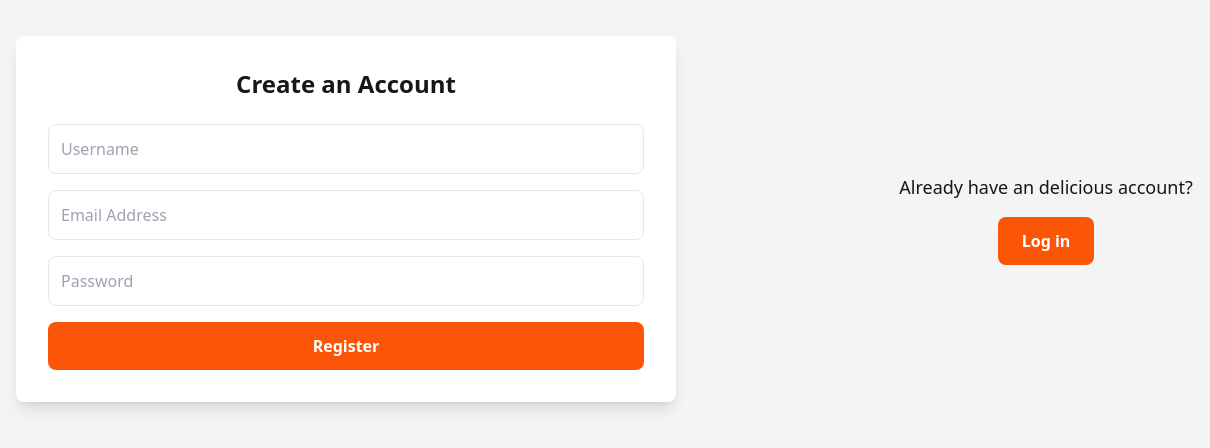
Test: SignUp Component › handles API error on registration
Type "spiderman" into the field with placeholder "Username" at (346,149), box [48, 124, 644, 174]
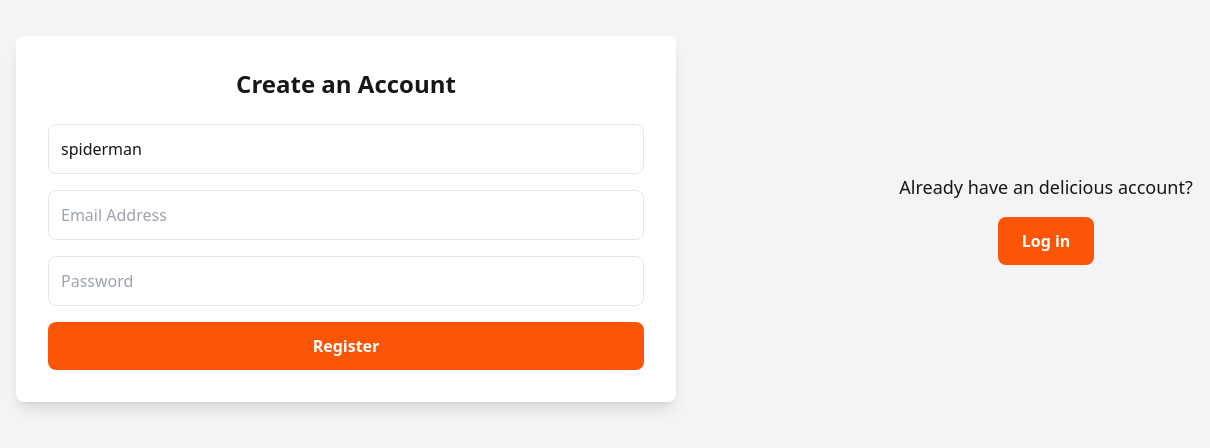
Type "spiderman@gmail.com" into the field with placeholder "Email Address" at (346,215), box [48, 190, 644, 240]
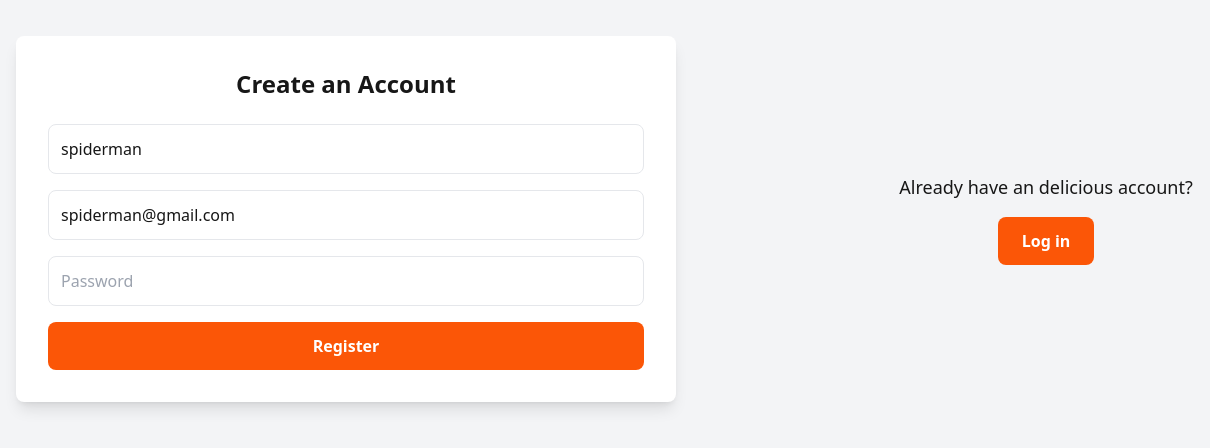
Type "dsasee@@sd" into the password field with placeholder "Password" at (346,281), box [48, 256, 644, 306]
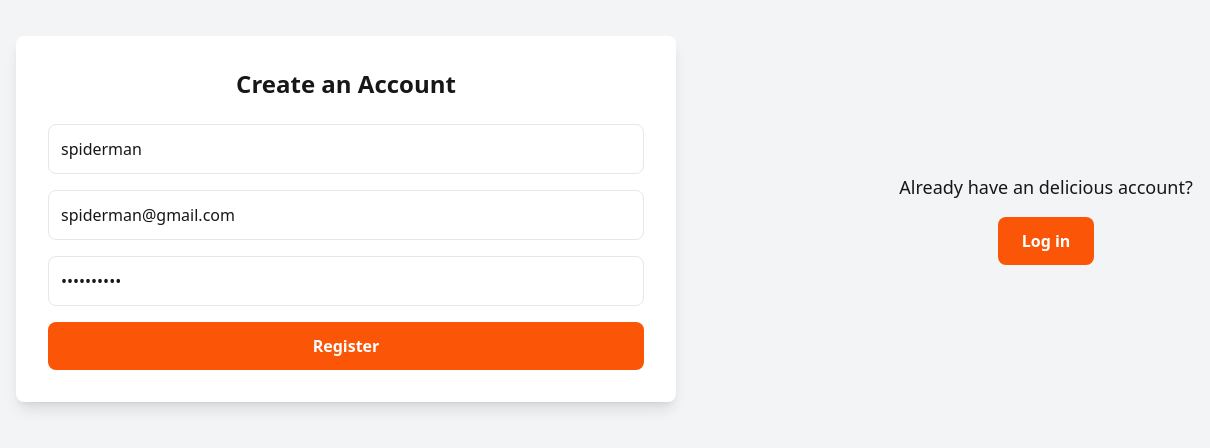
Click the button "Register" at (346,346), box [48, 322, 644, 370]
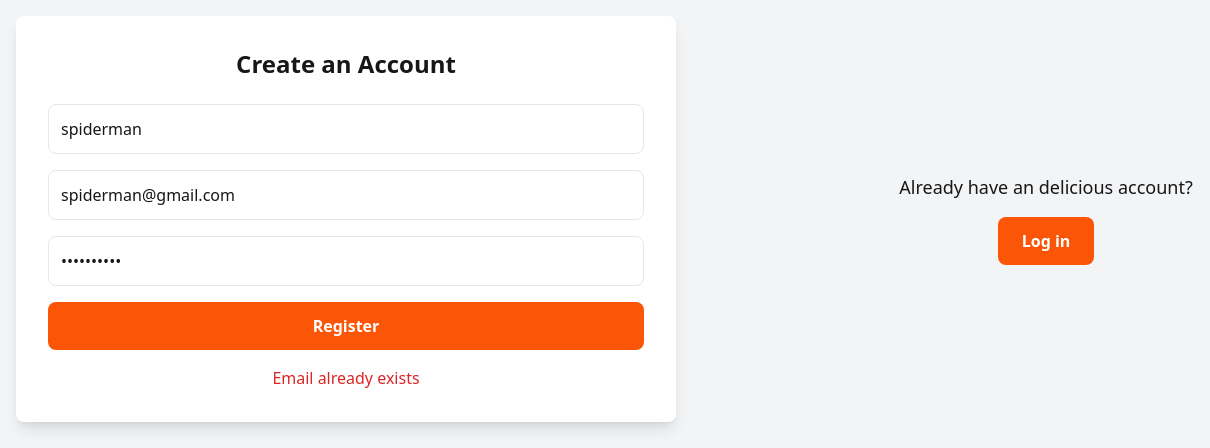
Check: the text "Email already exists" is shown, box [272, 367, 420, 389]
